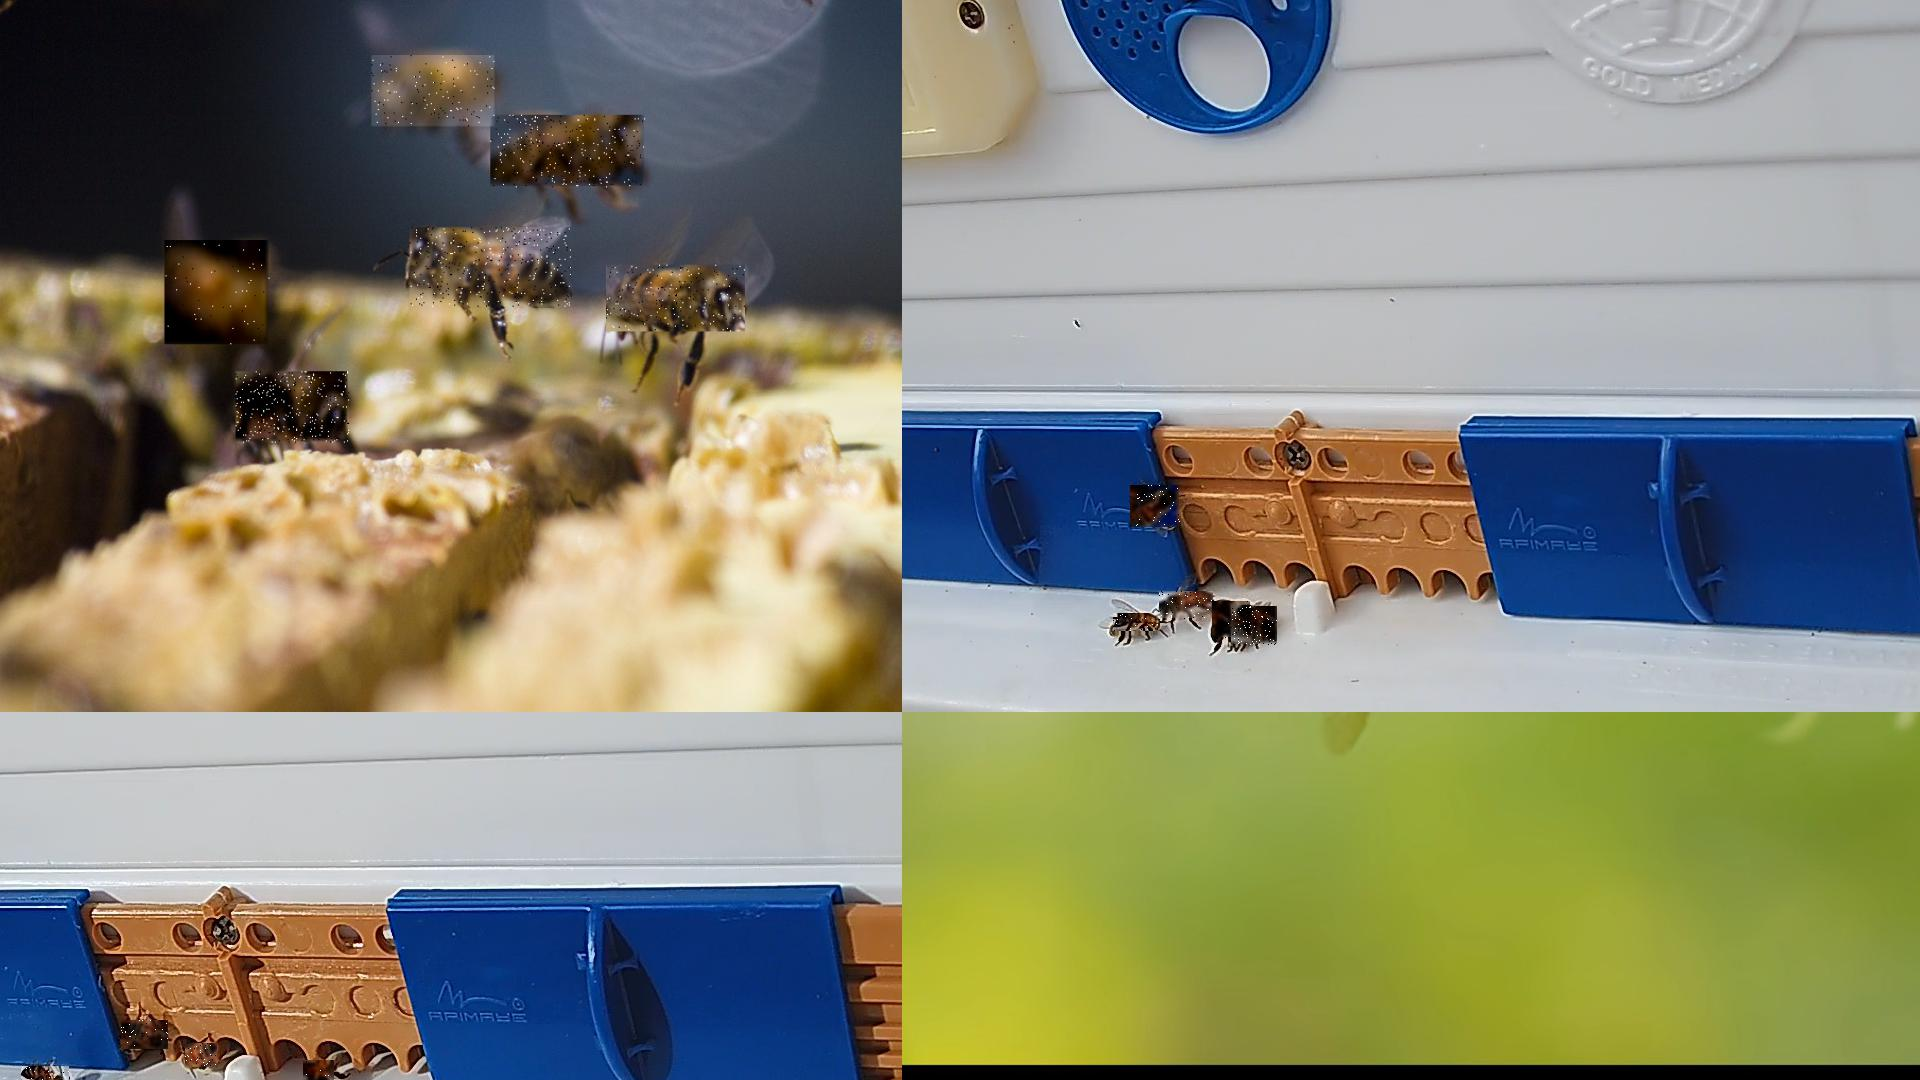bee: (410, 228, 573, 309), (491, 116, 647, 190), (166, 240, 272, 346), (606, 265, 746, 333), (372, 55, 496, 128), (237, 372, 351, 445), (1131, 485, 1182, 528), (1231, 607, 1278, 647), (1159, 592, 1214, 621), (1212, 602, 1251, 640), (121, 1020, 169, 1050), (1113, 614, 1161, 636), (185, 1043, 218, 1068), (21, 1066, 71, 1079), (303, 1060, 336, 1079)
